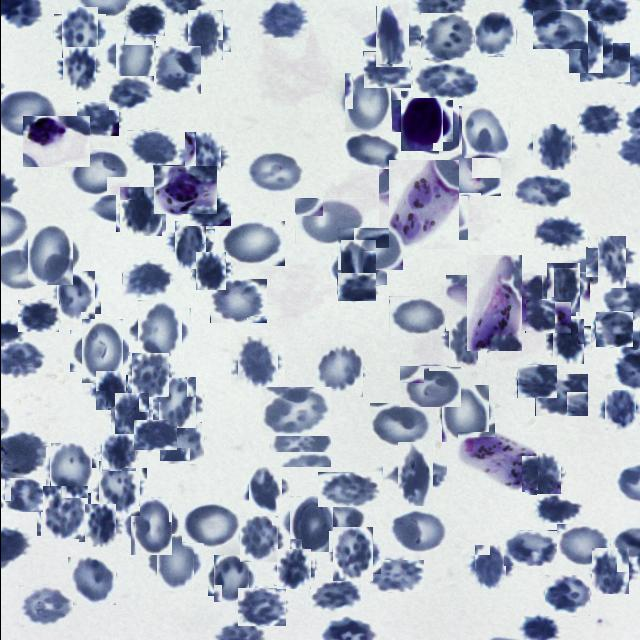difficult: (382, 164, 462, 244), (455, 265, 531, 341), (457, 432, 537, 490)
leukocyte: (396, 96, 447, 146)
red blood cell: (260, 387, 330, 436), (294, 198, 363, 244), (74, 324, 128, 378), (340, 76, 394, 130), (66, 148, 128, 195), (437, 150, 500, 196), (220, 221, 284, 266), (269, 420, 330, 467), (23, 227, 77, 280), (109, 31, 162, 85), (336, 227, 402, 270), (133, 304, 186, 357), (438, 388, 492, 440), (368, 402, 431, 446), (420, 13, 474, 64), (181, 504, 240, 550), (398, 365, 461, 407), (460, 105, 511, 156), (209, 278, 266, 323), (244, 149, 303, 192), (125, 502, 175, 552), (314, 346, 364, 396), (286, 499, 336, 549), (38, 488, 88, 538), (389, 449, 439, 499), (388, 509, 446, 552), (412, 60, 477, 98), (149, 46, 200, 94), (150, 539, 198, 587), (68, 556, 116, 604), (328, 530, 376, 578), (94, 465, 142, 513), (367, 12, 416, 59), (534, 373, 587, 416), (46, 445, 94, 492), (388, 296, 444, 336), (556, 524, 610, 565), (233, 340, 280, 387), (317, 472, 380, 507), (343, 132, 400, 170), (444, 317, 490, 364), (18, 585, 72, 625), (512, 173, 570, 210), (532, 10, 587, 49), (117, 188, 163, 234), (154, 380, 198, 426), (336, 244, 380, 290), (579, 44, 629, 84), (471, 12, 516, 56), (256, 0, 308, 38), (502, 530, 556, 566), (53, 273, 97, 317), (57, 10, 101, 54), (180, 136, 224, 180), (121, 258, 169, 298), (541, 268, 584, 312), (183, 13, 226, 56), (544, 575, 589, 616), (533, 216, 587, 250), (237, 588, 285, 626), (530, 125, 572, 168), (564, 26, 607, 68), (126, 130, 177, 165), (362, 51, 410, 88), (160, 421, 202, 463), (238, 518, 280, 560), (588, 550, 630, 592), (368, 560, 423, 592), (210, 558, 252, 599), (128, 355, 170, 396), (591, 242, 631, 283), (309, 580, 360, 612), (522, 454, 562, 494), (170, 224, 210, 264), (244, 470, 284, 510), (524, 299, 570, 333), (108, 76, 153, 110), (58, 50, 98, 88), (578, 103, 621, 137), (548, 323, 586, 361), (274, 550, 312, 588), (112, 394, 150, 432), (76, 102, 118, 136), (471, 548, 508, 586), (594, 311, 632, 347), (3, 477, 42, 512), (516, 364, 556, 398), (18, 300, 60, 332), (536, 494, 582, 523), (81, 508, 118, 544), (100, 434, 136, 470), (602, 392, 638, 428), (133, 420, 176, 450), (124, 4, 164, 36), (186, 198, 230, 226), (92, 373, 127, 408), (194, 254, 228, 288), (336, 272, 375, 301)
trophozoite: (22, 116, 89, 167), (152, 165, 216, 214)
